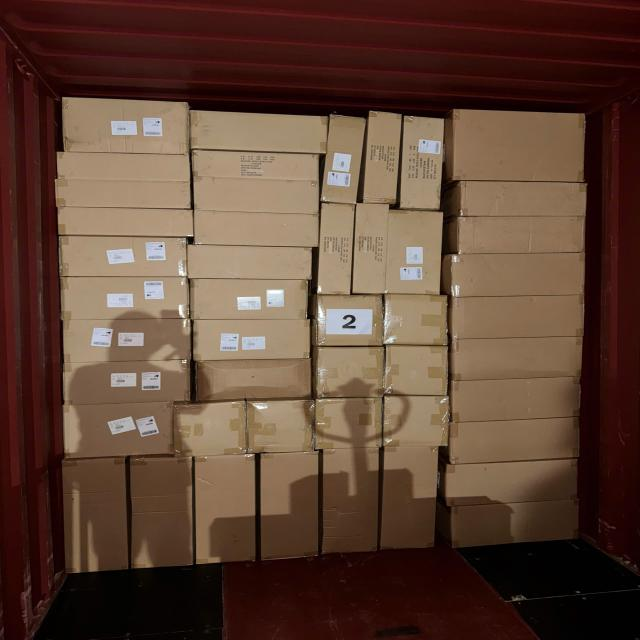Carton: (456, 110, 589, 184), (190, 152, 321, 216), (61, 456, 128, 574), (64, 98, 193, 156), (130, 458, 192, 572), (196, 454, 256, 566), (261, 451, 320, 563), (444, 254, 592, 298), (62, 401, 176, 458), (450, 336, 586, 382), (449, 297, 588, 342), (324, 449, 381, 557), (450, 378, 583, 424), (380, 446, 437, 553), (444, 460, 579, 505), (448, 418, 582, 463), (65, 320, 195, 366), (450, 501, 580, 546), (66, 358, 192, 404), (60, 277, 191, 321), (193, 114, 330, 156), (451, 214, 591, 255), (59, 238, 188, 280), (192, 320, 312, 364), (189, 278, 310, 321), (194, 359, 313, 402), (457, 182, 595, 219), (390, 208, 444, 294), (52, 176, 196, 208), (187, 246, 312, 282), (61, 206, 195, 239), (190, 212, 317, 246), (172, 400, 248, 456), (54, 150, 195, 180), (402, 119, 445, 214), (246, 399, 315, 455), (314, 398, 386, 451), (315, 346, 387, 399), (313, 294, 386, 346), (380, 396, 447, 450), (324, 118, 364, 208), (381, 296, 448, 349), (386, 344, 451, 397), (363, 112, 399, 207), (319, 205, 355, 298), (354, 200, 387, 294)
